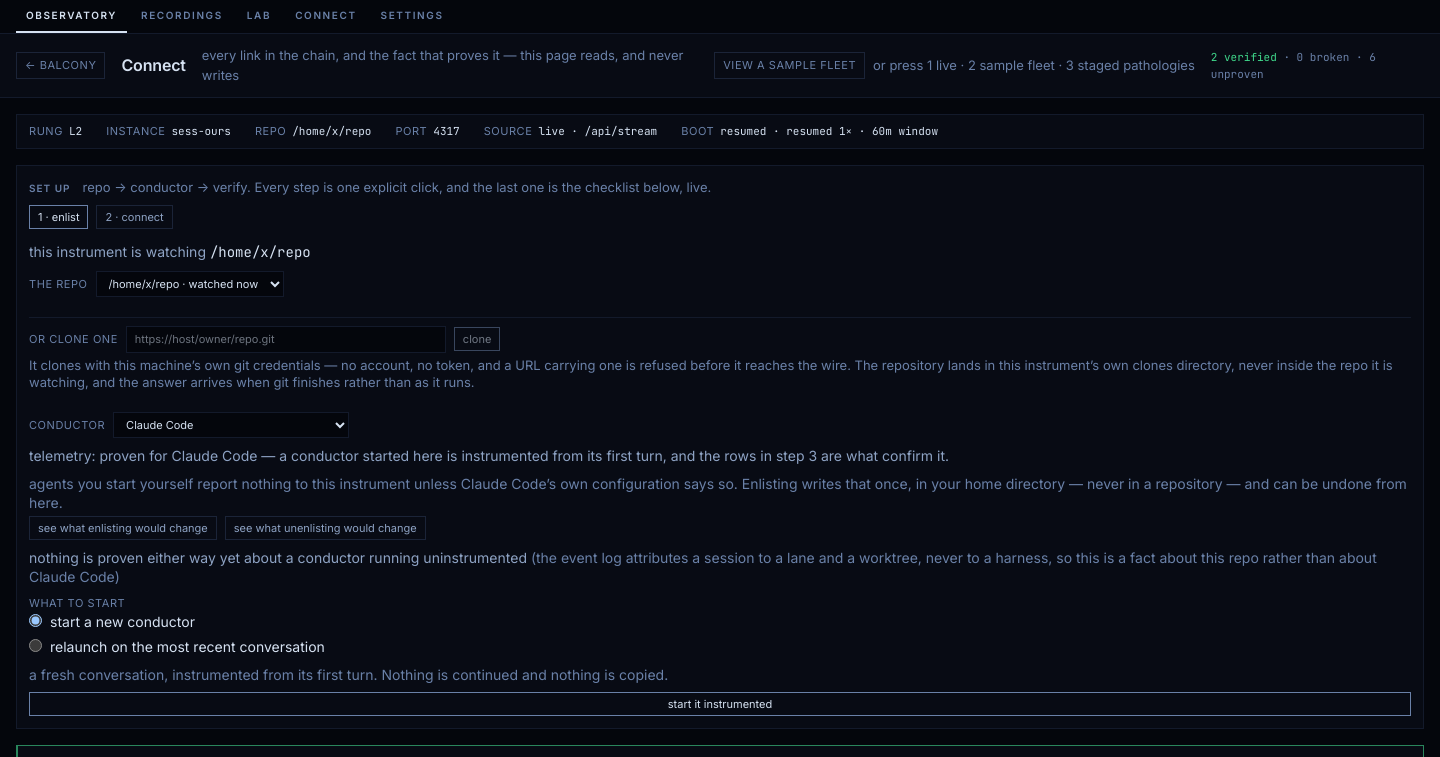
Test: the sample-fleet affordance, mounted (#259) › flips the whole page's provenance reading when activated, and back when returned to live
Click the button with test id "connect-sample-activate". click: (790, 66)
box: top-left (714, 52), bottom-right (865, 79)
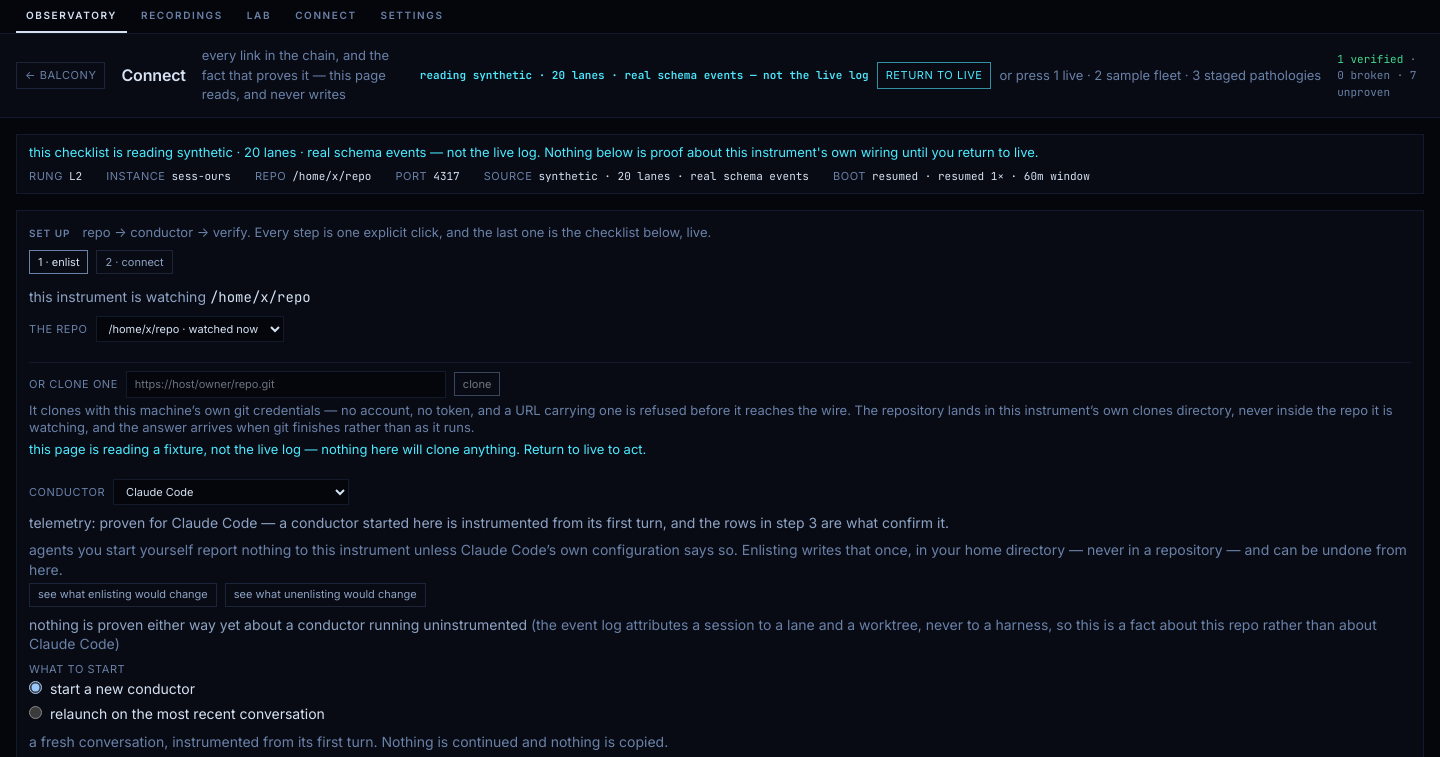
Now the text with test id "connect-not-live" shows "synthetic · 20 lanes · real schema events", box top-left (177, 144), bottom-right (426, 160)
Now the text with test id "connect-sample-banner" shows "synthetic · 20 lanes · real schema events", box top-left (473, 68), bottom-right (743, 82)
Click the button with test id "connect-sample-return". click: (934, 75)
box: top-left (877, 62), bottom-right (992, 88)
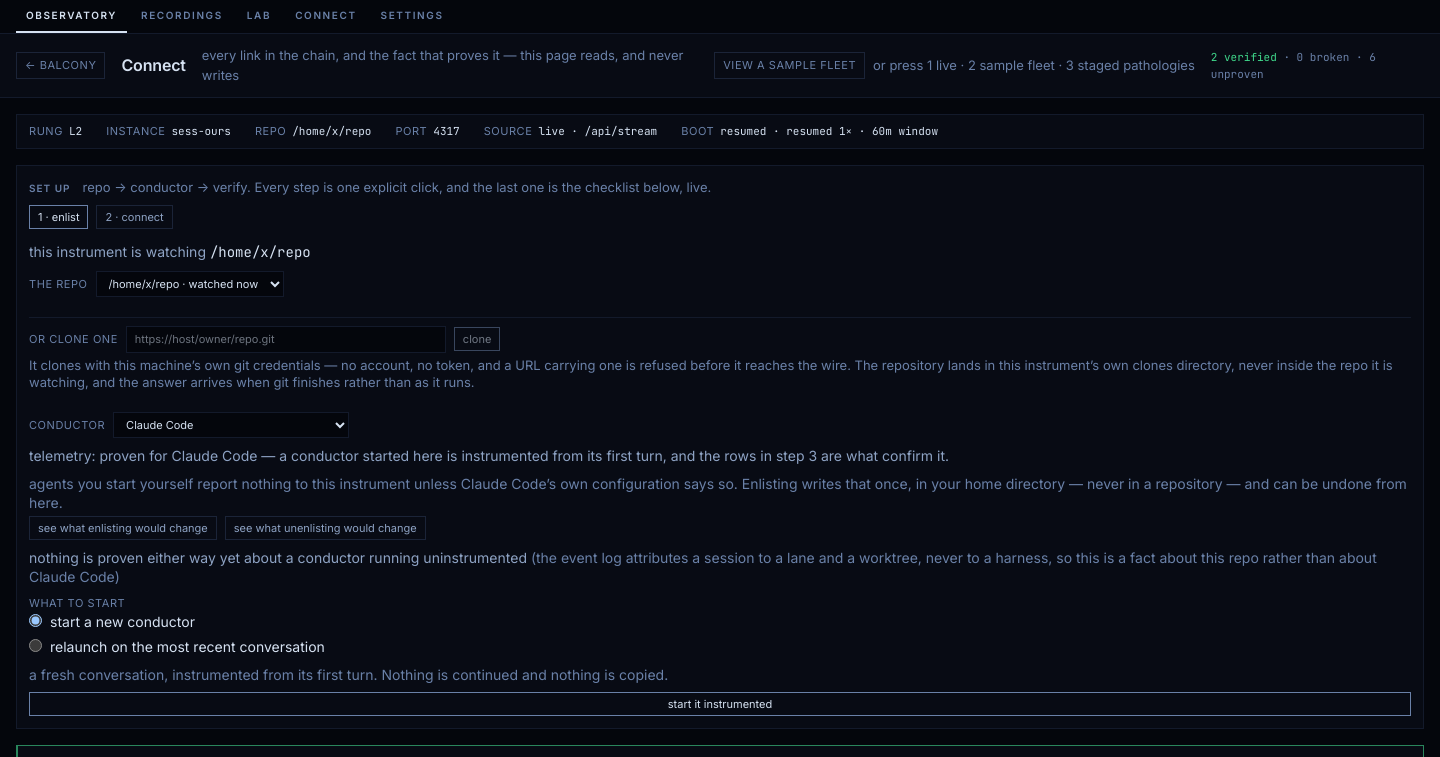
Now the text with test id "connect-not-live" is gone
Now the button with test id "connect-sample-activate" is shown, box top-left (714, 52), bottom-right (865, 79)
